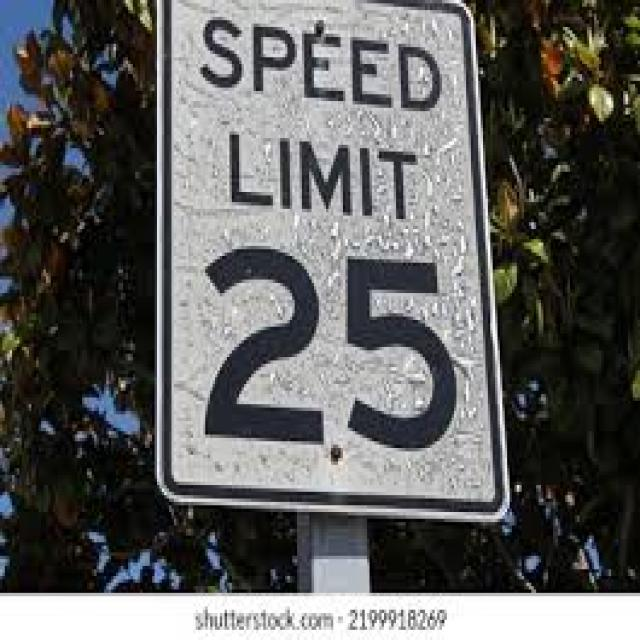speedLimit25: (157, 8, 481, 520)
